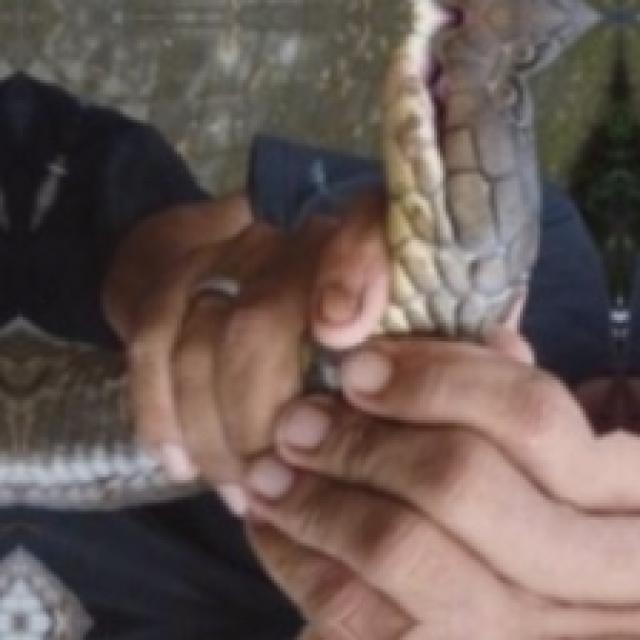king cobra: (381, 0, 599, 337), (0, 321, 176, 506), (308, 351, 338, 390)
